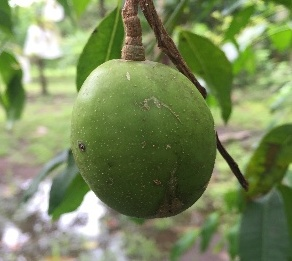Coc: (70, 58, 218, 217)
